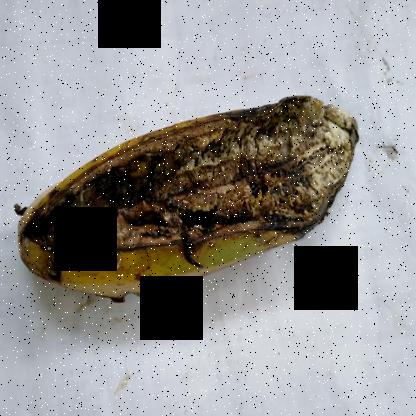rotten: (3, 72, 358, 327)
